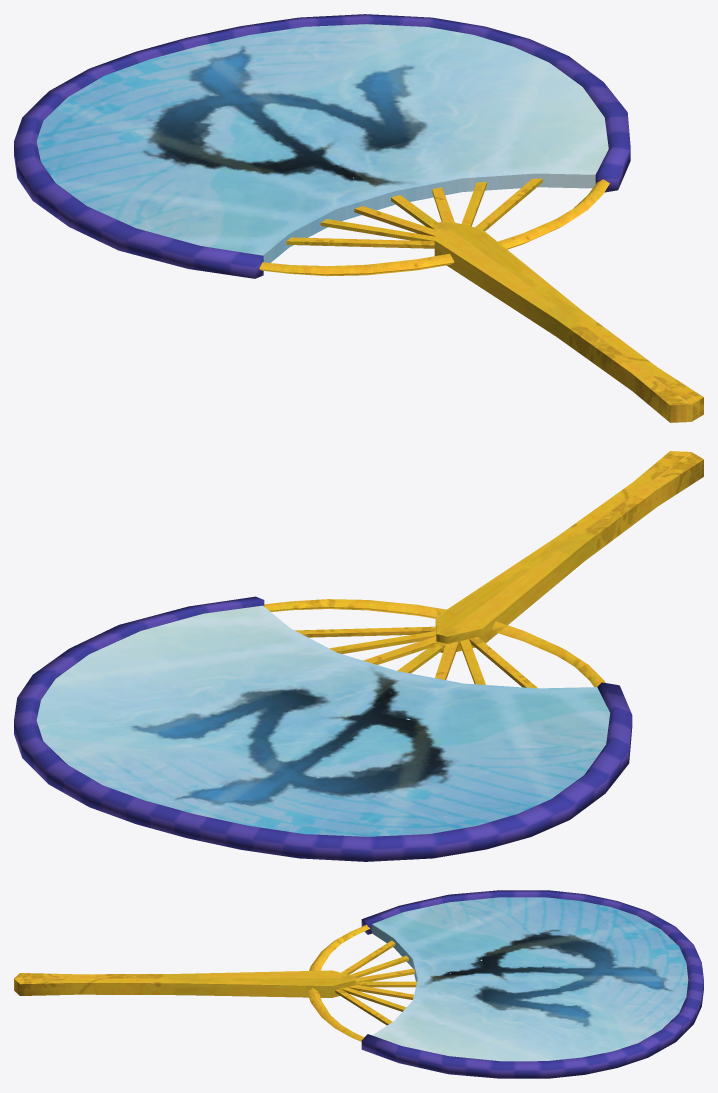
Rendered from wand_s_uchiwa_amaterasu_uchiwa.glb.
The picture shows the model from 3 angles, top to bottom: view 1: azimuth 30°, elevation 25°; view 2: azimuth 150°, elevation 25°; view 3: azimuth 270°, elevation 25°; orthographic projection. The views are drawn at different scales.
Bounding box in the file's own units: 0.2371 × 0.00932 × 0.3862.
Materials: 1 (1 with a texture image).
